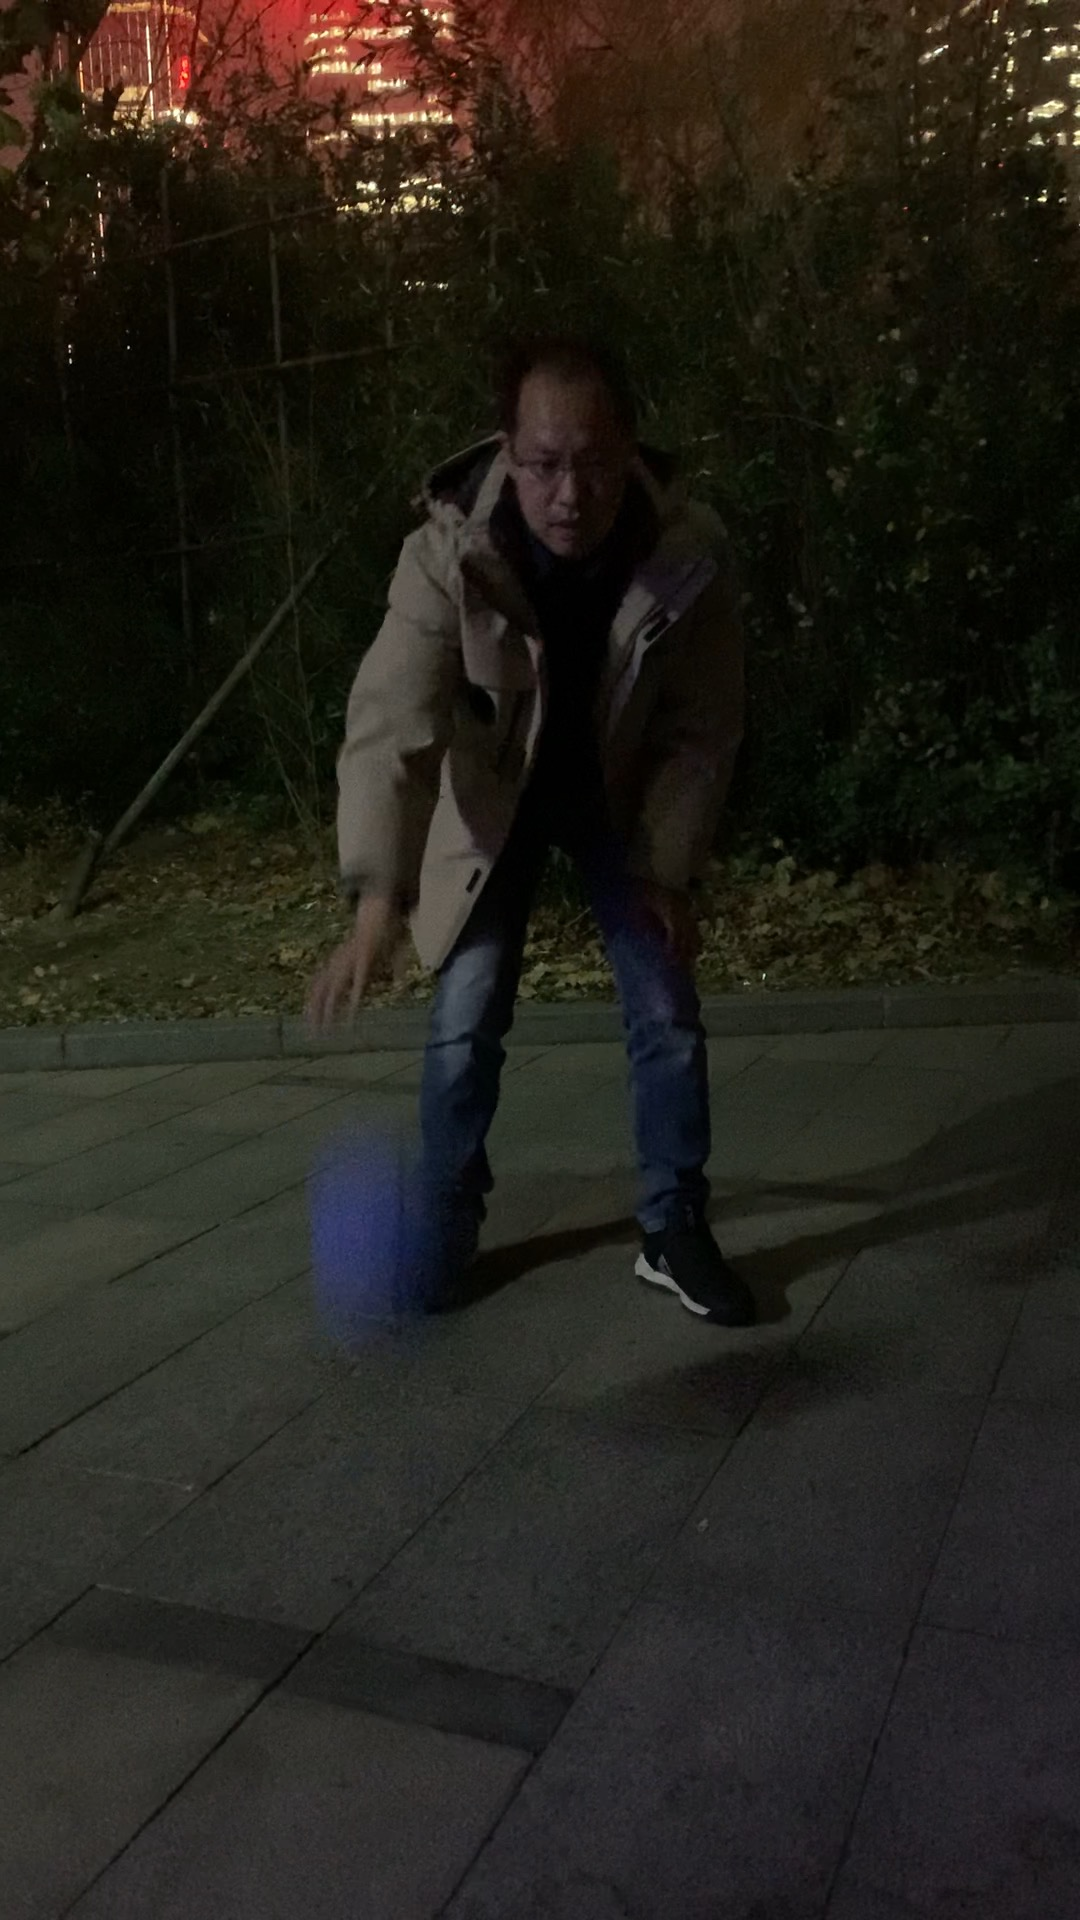ball: (305, 1170, 481, 1329)
